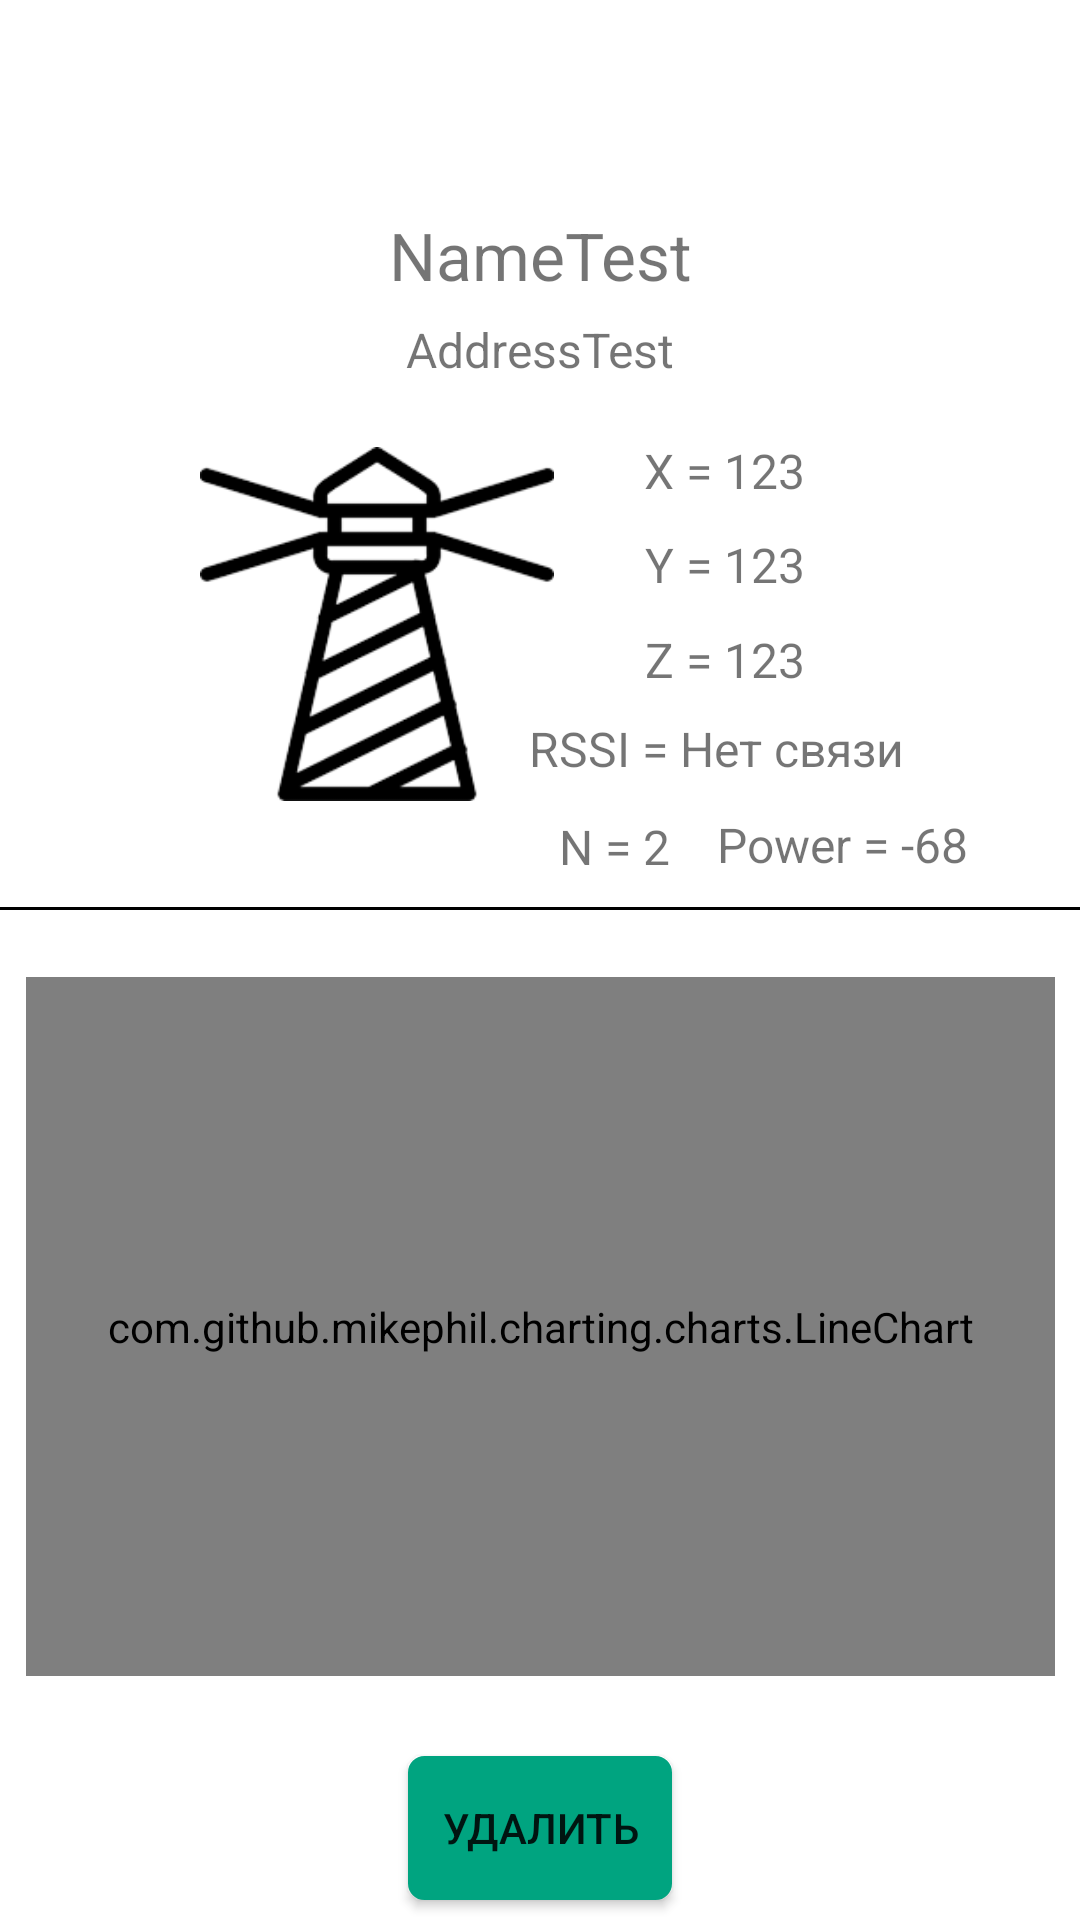

Icon bounding boxes for this 1080*1920 phone screenshot, format (x1, y1, x2, y2):
beacon: (200, 447, 554, 801)
